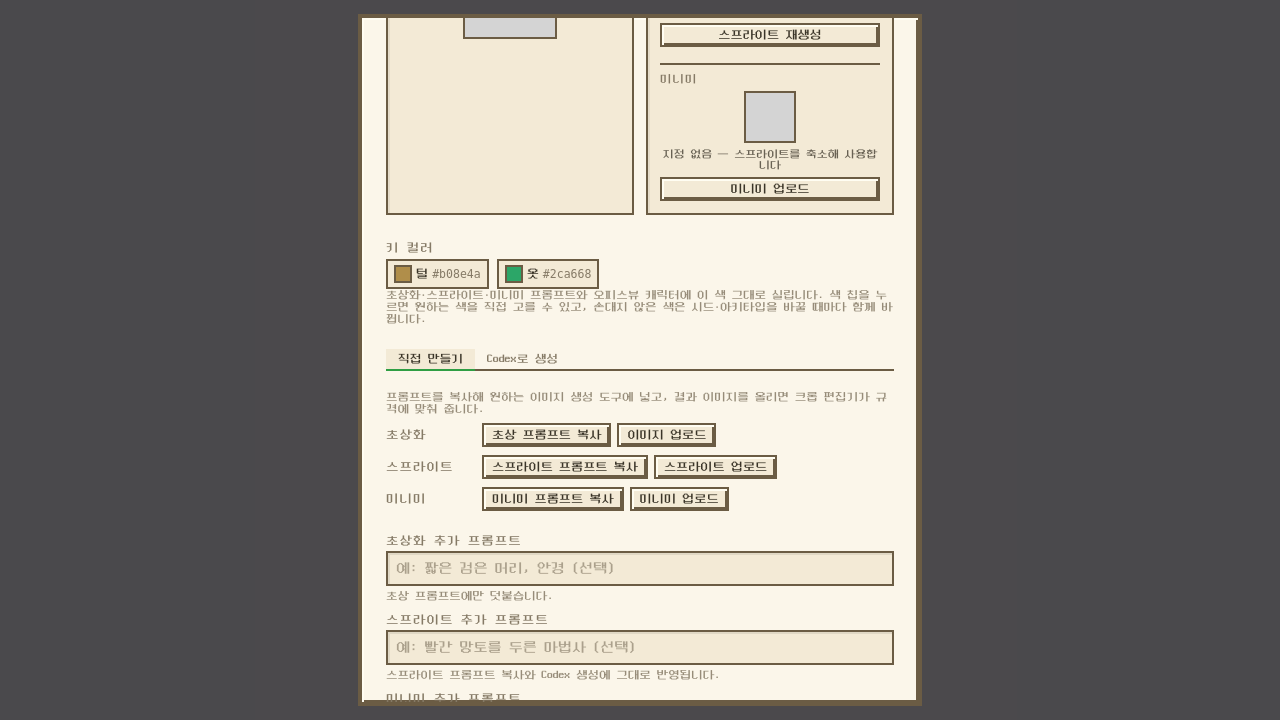
it: 외형 모드 탭 › codex가 없으면 생성 버튼이 비활성이고 설치 안내가 뜬다
(page scrolled)
Click the tab "Codex로 생성" at (523, 360), box [475,349,570,371]
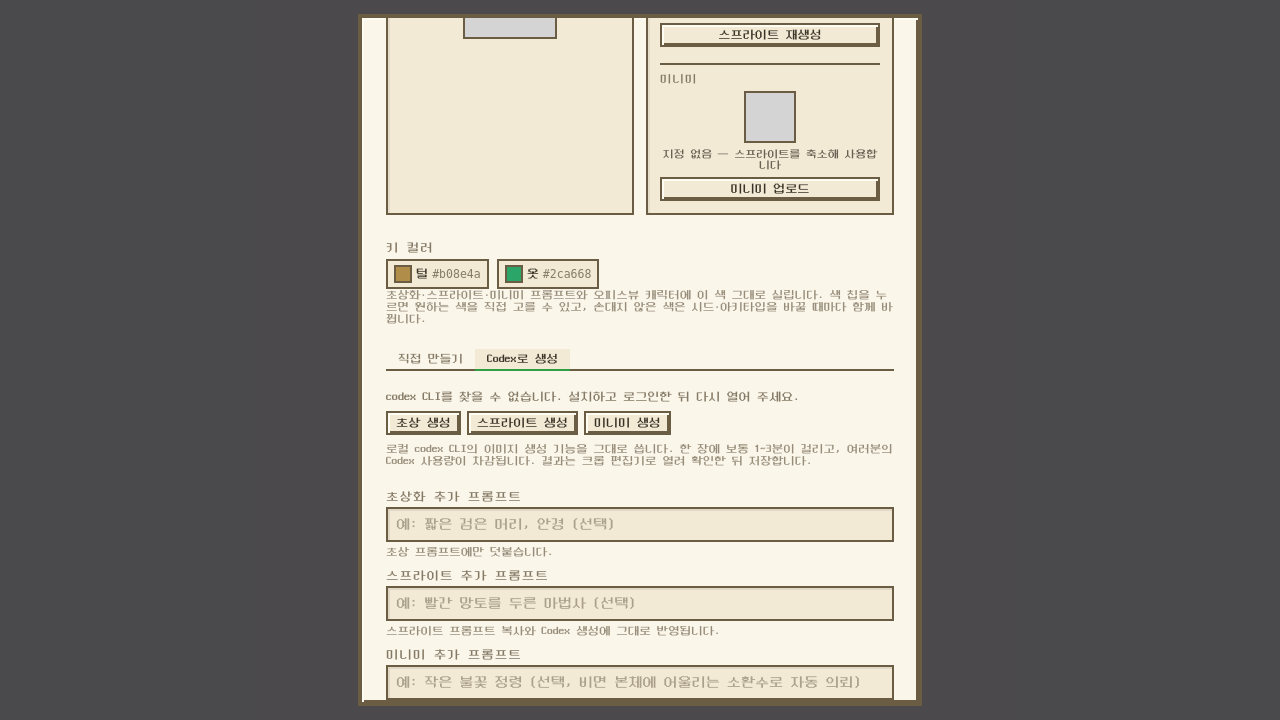
Result: the text "codex CLI를 찾을 수 없습니다. 설치하고 로그인한 뒤 다시 열어 주세요." is shown at [386,391,799,403]
Result: the button "초상 생성" is disabled at [386,411,461,435]
Result: the button "스프라이트 생성" is disabled at [467,411,578,435]
